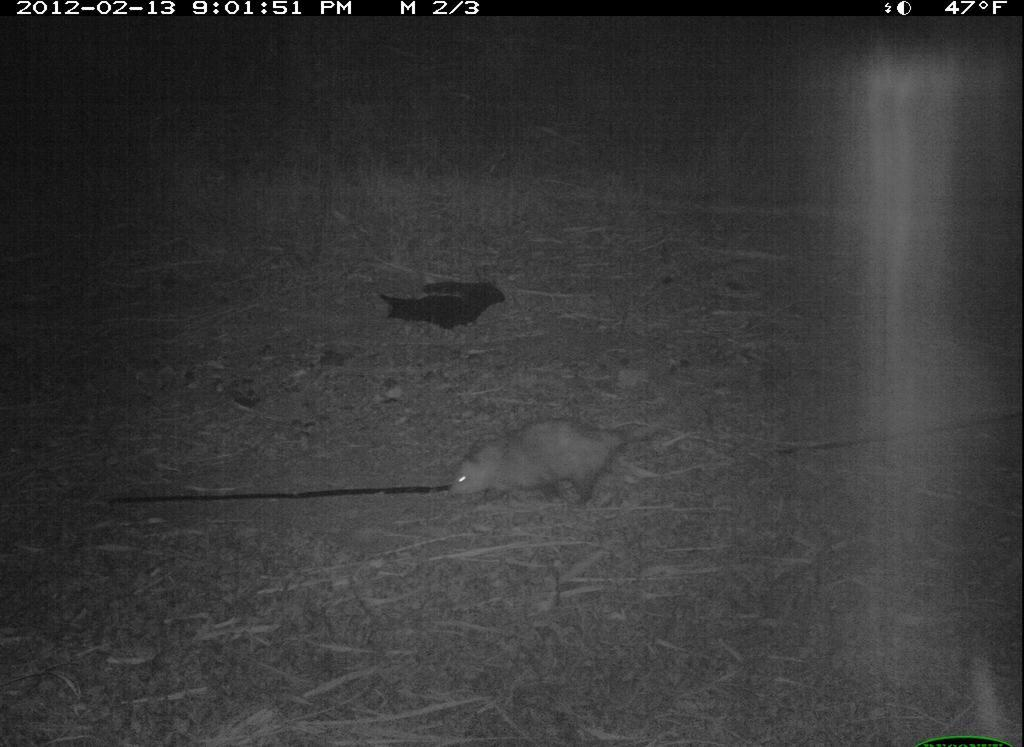opossum: (442, 411, 688, 515)
